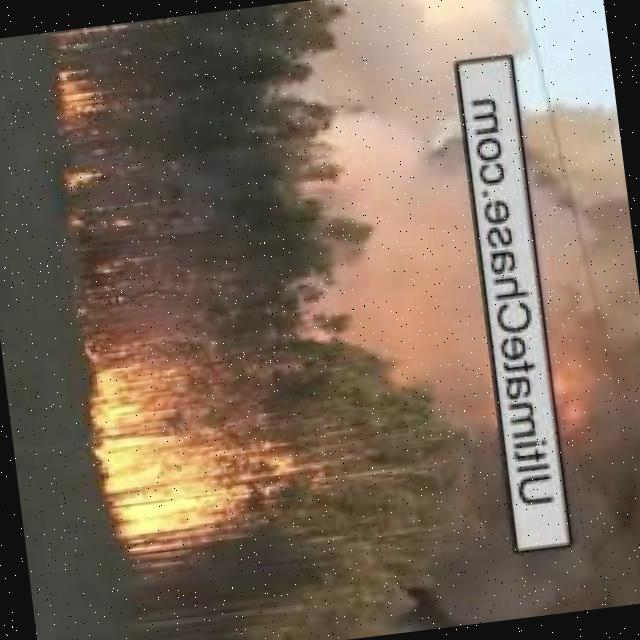fire: (80, 318, 308, 562), (547, 310, 618, 446), (47, 59, 117, 120), (56, 161, 116, 199)
